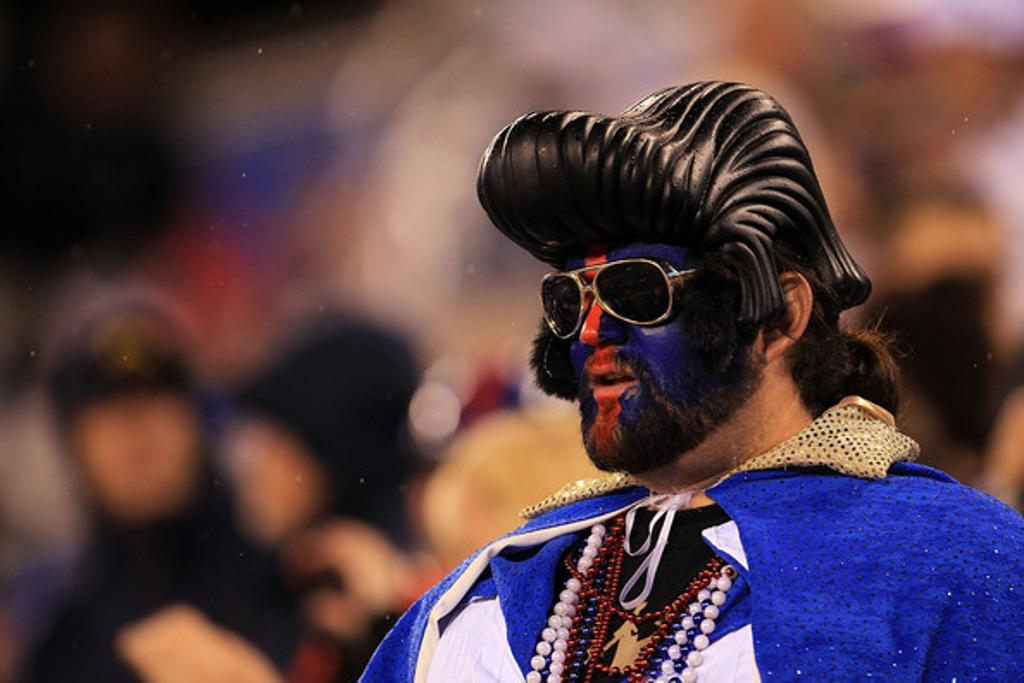face: (554, 244, 760, 468)
